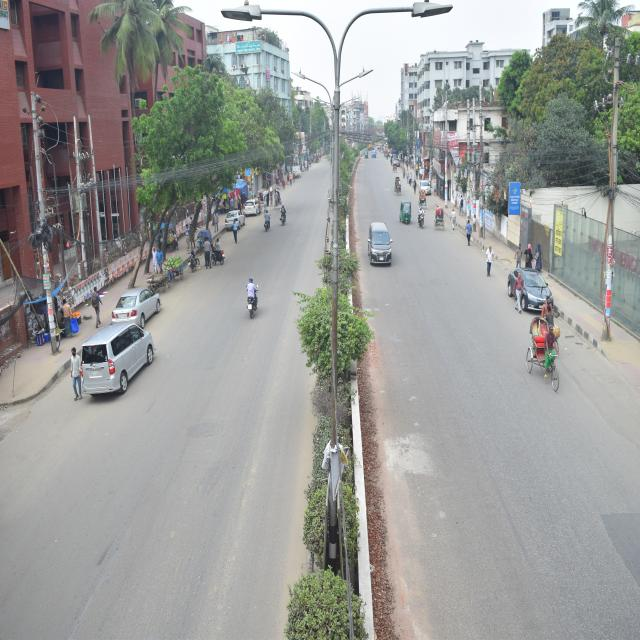car: (72, 311, 179, 414), (500, 250, 592, 357), (360, 210, 410, 309), (107, 264, 171, 333), (231, 183, 264, 223), (217, 198, 244, 246), (415, 172, 446, 202), (392, 152, 404, 171)
motorbike: (232, 273, 280, 340), (202, 235, 234, 275), (180, 241, 204, 291), (272, 192, 296, 235), (416, 198, 438, 235), (259, 200, 275, 239), (269, 178, 283, 207)
pickup-van: (288, 158, 311, 188), (370, 146, 381, 163)
